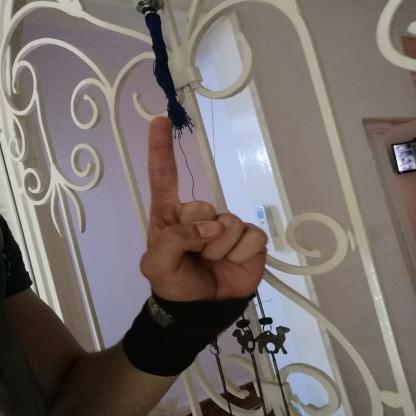BAA: (124, 108, 280, 312)
